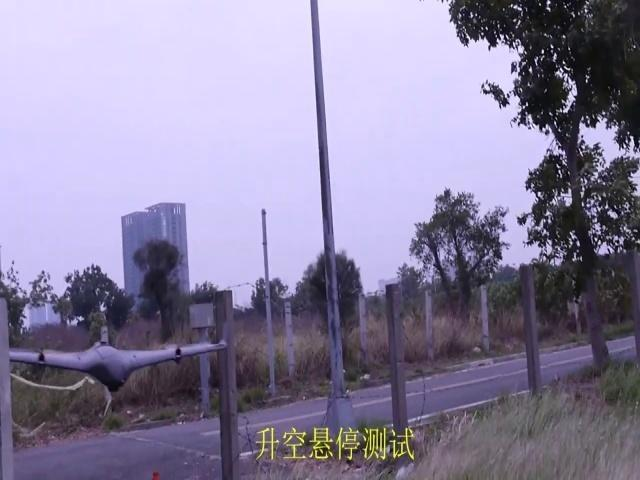Airplane: (1, 325, 228, 392)
